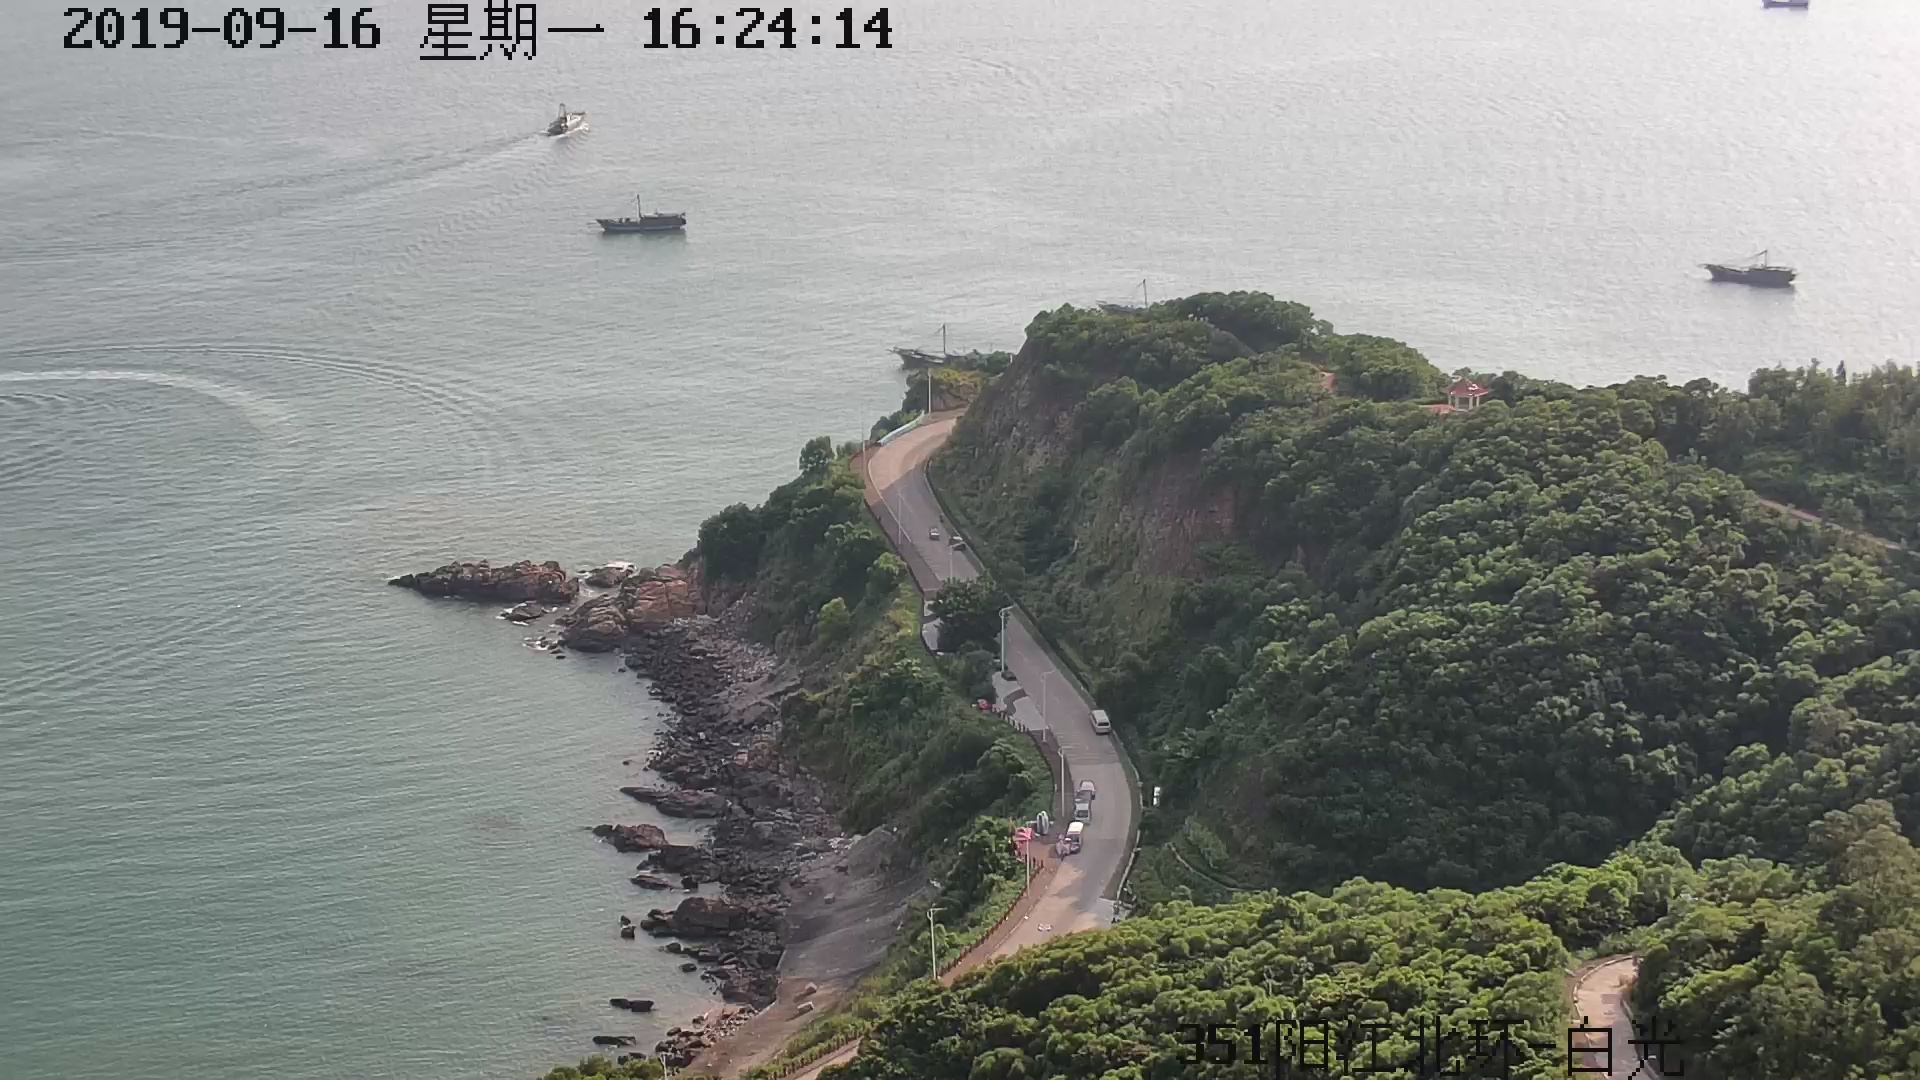ship: (591, 193, 688, 237), (1692, 252, 1796, 286), (542, 98, 585, 142)
